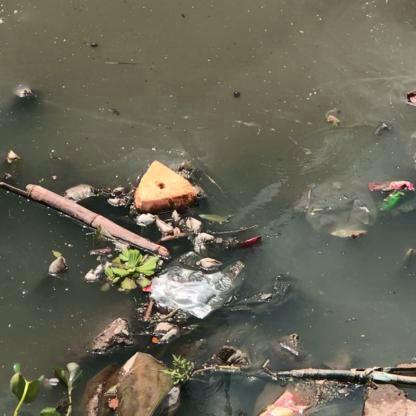Trash: (148, 266, 253, 320), (134, 158, 206, 211), (375, 175, 412, 210), (232, 228, 272, 252), (193, 254, 227, 274), (191, 232, 216, 247)
